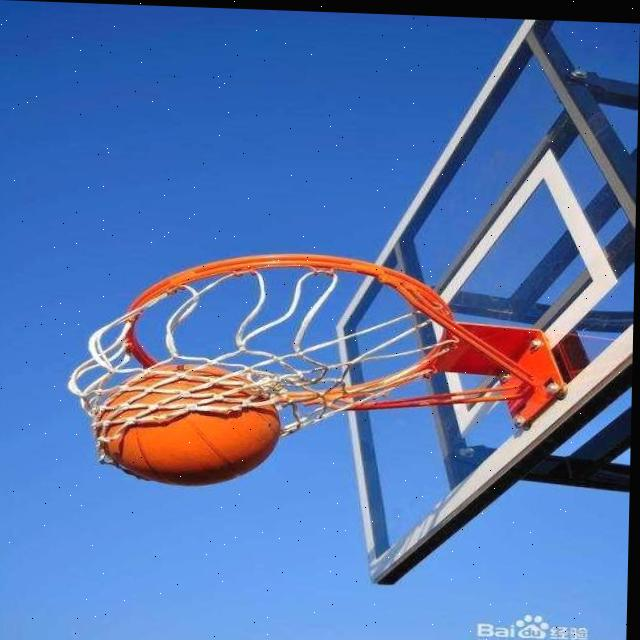Goal: (96, 360, 279, 488)
